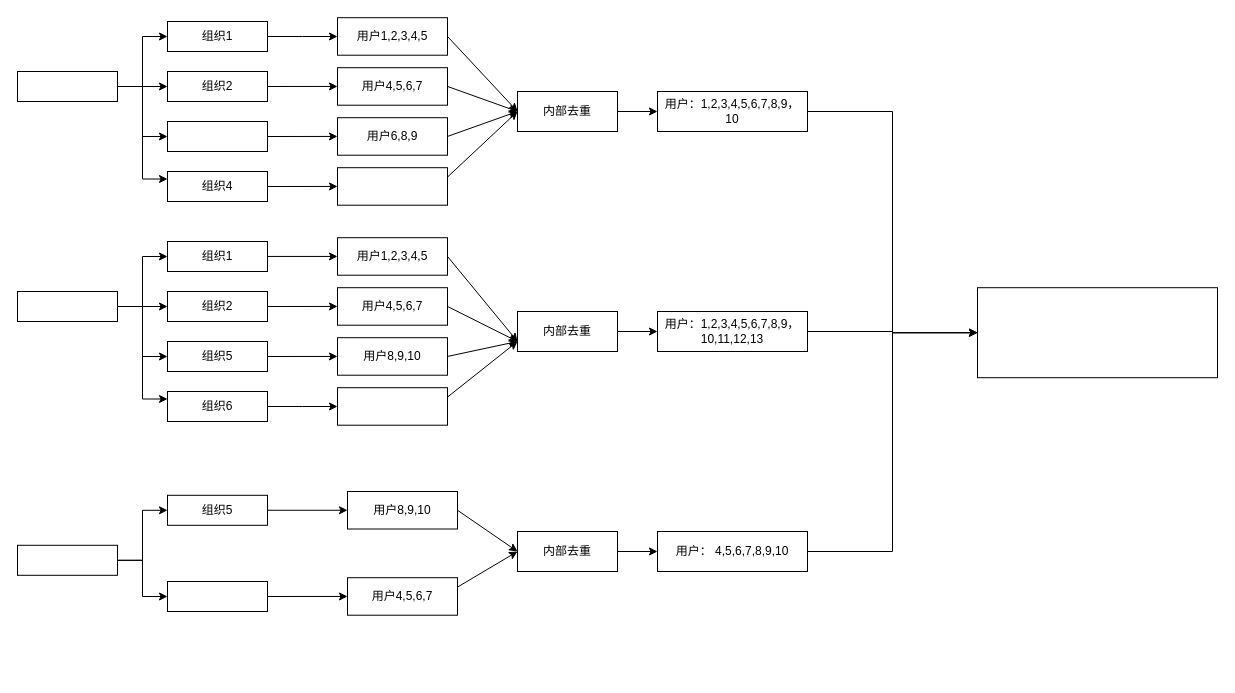
Image size: 1235x693. Some labels were removed from this diagram. Here are the shapes that lost their labels. From the top down, the centre of each, then its label:
At (67,86): "订单1".
At (217,136): "组织3".
At (392,186): "用户6,7,10".
At (67,306): "订单2".
At (1097,332): "统计3个订单的最终结果： 用户1,2,3：2个 用户4,5,6,7,8,9,10：3个 用户11,12,13：1个".
At (392,406): "用户11,12,13".
At (67,559): "订单3".
At (217,596): "组织7".
